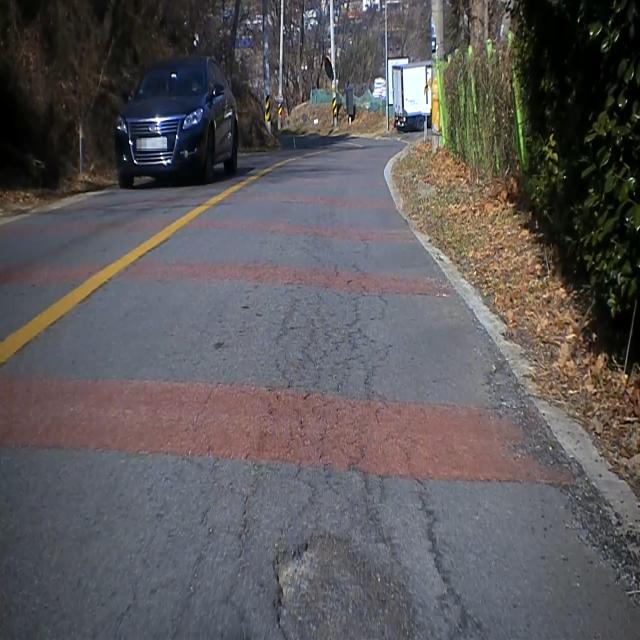Pothole: (262, 513, 424, 640)
